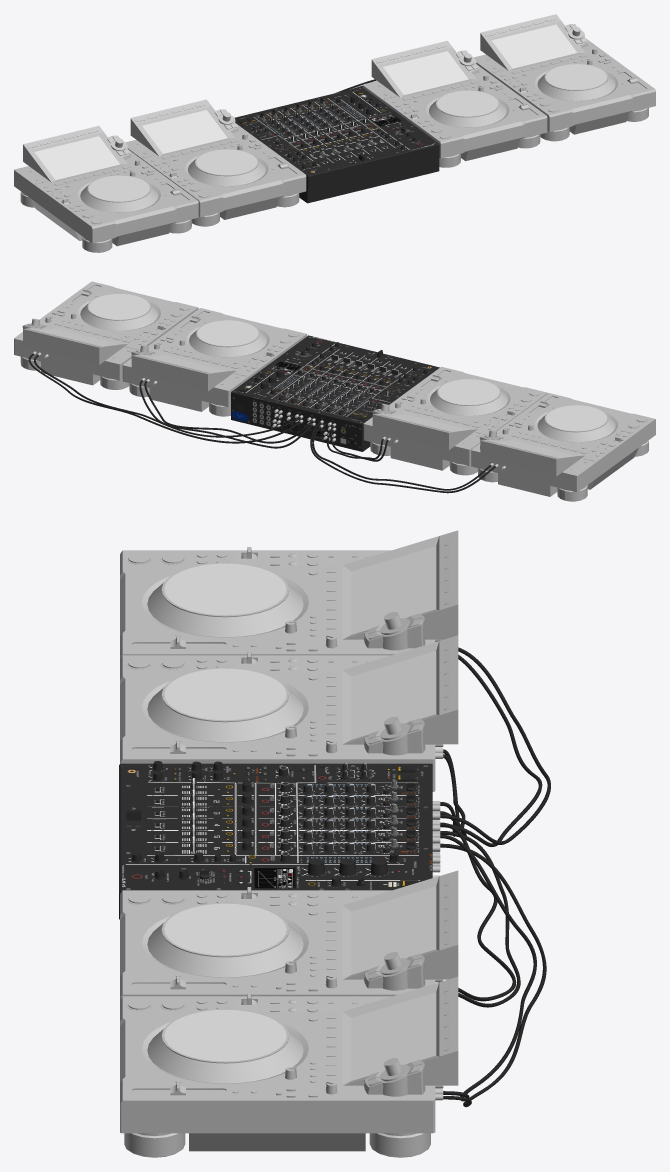
The model's file is Pack4.fbx.
The picture shows the model from 3 angles, top to bottom: view 1: azimuth 30°, elevation 25°; view 2: azimuth 150°, elevation 25°; view 3: azimuth 270°, elevation 25°; orthographic projection. The views are drawn at different scales.
Parts seen in each view (by area): view 1: DJM-V10; view 2: DJM-V10, Cables; view 3: DJM-V10, Cables.
Part boxes in pixels (x1,y1,x2,y2): DJM-V10: [14, 14, 655, 252]; DJM-V10: [14, 281, 655, 501]; Cables: [28, 353, 495, 493]; DJM-V10: [119, 530, 458, 1157]; Cables: [440, 647, 550, 1107].
Bounding box in the file's own units: 168 × 13.6 × 55.72.
